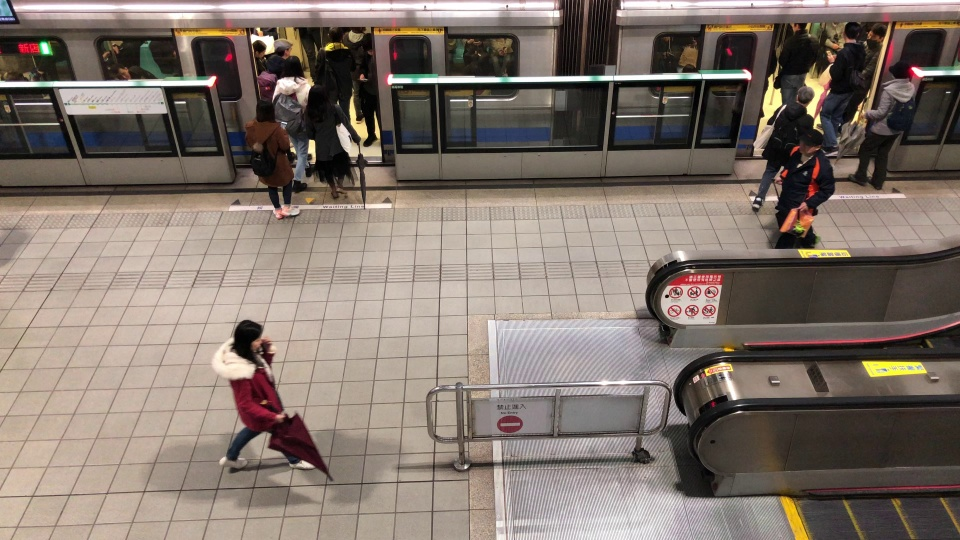person_head: (230, 318, 264, 359), (797, 130, 824, 154), (864, 22, 888, 47), (253, 99, 276, 124), (280, 55, 304, 77), (886, 60, 911, 81), (841, 21, 862, 45), (792, 87, 815, 108), (272, 37, 294, 58), (308, 85, 330, 106), (248, 38, 266, 59), (362, 35, 377, 57), (326, 28, 344, 46), (790, 20, 808, 34), (348, 24, 366, 36)
person_vbox: (207, 319, 316, 476), (846, 60, 918, 192), (749, 87, 816, 212), (815, 20, 888, 131), (814, 20, 869, 157), (242, 99, 301, 219), (270, 55, 316, 194), (306, 85, 361, 199), (780, 130, 838, 236), (269, 36, 312, 159), (246, 37, 294, 143), (771, 19, 822, 110), (354, 34, 389, 149), (316, 27, 354, 130), (346, 23, 371, 123)
